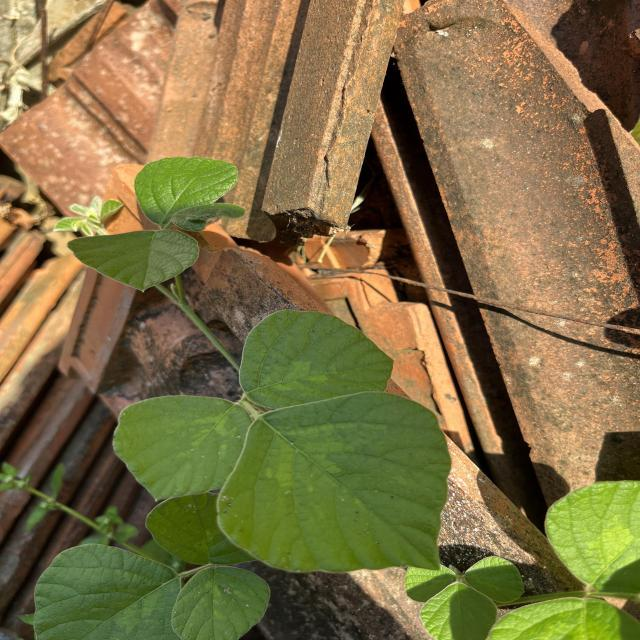Pseudarthria viscida: (108, 308, 454, 576)
